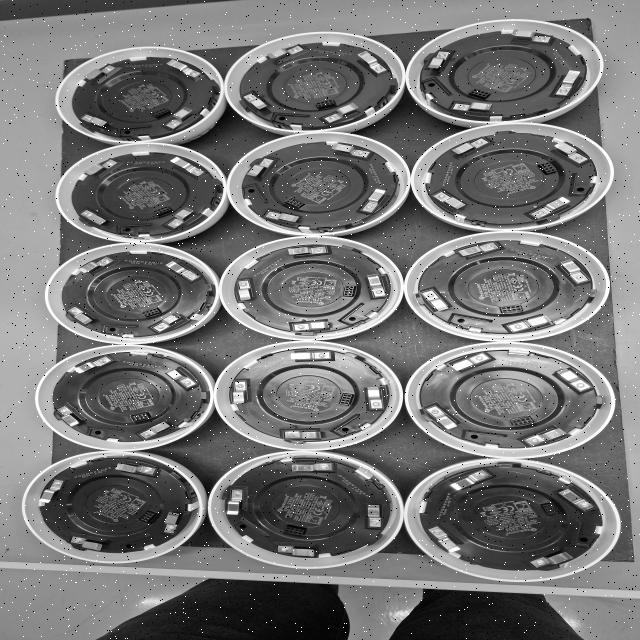yaysiz: (442, 468, 492, 493), (445, 351, 496, 375), (427, 523, 465, 554), (549, 367, 593, 393), (522, 426, 573, 448), (556, 257, 593, 287), (425, 404, 463, 433), (529, 196, 574, 220), (448, 240, 504, 259), (66, 534, 116, 555), (499, 314, 555, 332), (70, 355, 114, 377), (530, 548, 576, 569), (223, 486, 252, 518), (164, 155, 206, 177), (281, 242, 332, 260), (160, 364, 198, 388), (422, 288, 454, 316), (558, 488, 596, 511), (353, 50, 389, 74), (55, 404, 87, 431), (35, 479, 67, 506), (446, 138, 491, 157), (161, 58, 203, 78), (555, 69, 586, 96), (278, 350, 336, 364), (432, 190, 468, 212), (165, 260, 201, 282), (551, 142, 590, 162), (274, 543, 326, 558), (324, 102, 361, 123), (108, 461, 159, 476), (362, 187, 390, 214), (289, 318, 336, 334), (364, 270, 389, 300), (151, 312, 185, 334), (166, 106, 197, 130), (451, 101, 497, 117), (243, 158, 276, 180), (265, 45, 305, 63), (139, 420, 175, 440), (279, 427, 330, 441), (508, 28, 552, 44), (232, 378, 254, 410), (77, 256, 114, 275), (66, 306, 99, 327), (168, 207, 198, 230), (81, 158, 119, 176), (80, 209, 114, 229), (327, 143, 372, 158), (282, 462, 338, 474), (263, 210, 306, 225), (425, 51, 452, 74), (160, 509, 183, 536), (242, 93, 272, 113), (364, 382, 384, 412), (82, 64, 114, 82), (364, 500, 383, 530), (236, 278, 259, 302), (79, 115, 112, 130)
